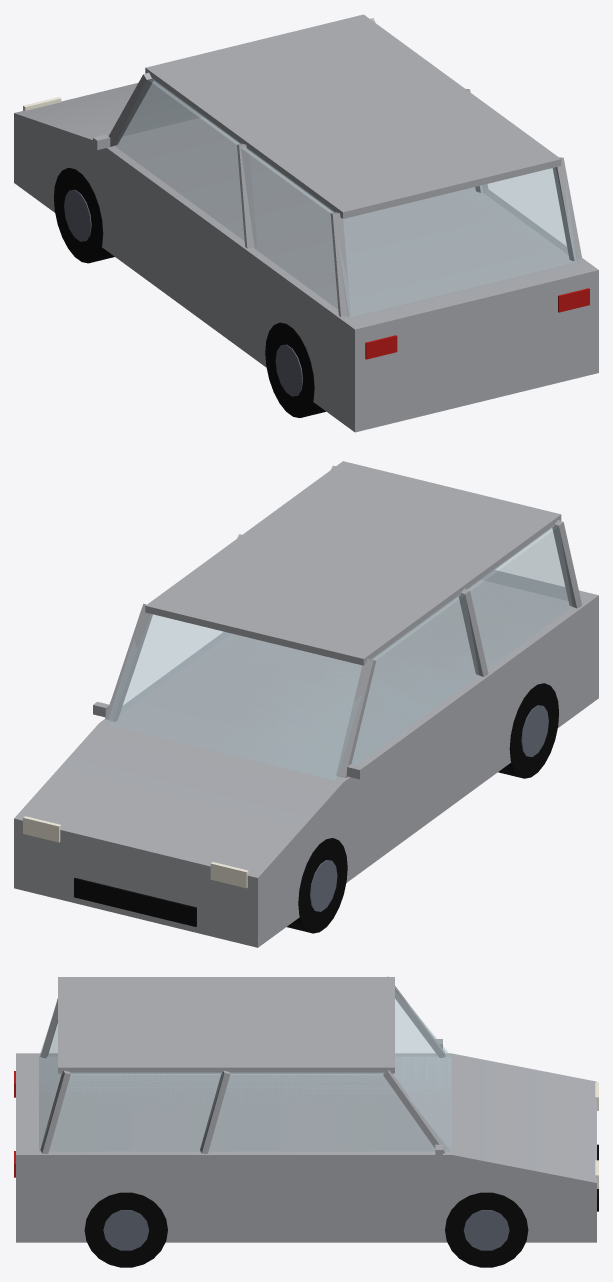
File: vehicle.car.suv_silver.glb
The picture shows the model from 3 angles, top to bottom: view 1: azimuth 30°, elevation 25°; view 2: azimuth 150°, elevation 25°; view 3: azimuth 270°, elevation 25°; orthographic projection. The views are drawn at different scales.
Visible parts, largest first — view 1: main__car_silver, main__glass, main__rubber, main__steel_painted, main__hazard_red; view 2: main__car_silver, main__glass, main__rubber, main__plastic_black, main__steel_painted, main__light_emitter; view 3: main__car_silver, main__glass, main__rubber, main__steel_painted.
Boxes of the visible parts, bbox=[...] form: main__car_silver: bbox=[14, 14, 598, 432]; main__glass: bbox=[115, 78, 577, 317]; main__rubber: bbox=[54, 167, 325, 417]; main__steel_painted: bbox=[64, 189, 302, 396]; main__hazard_red: bbox=[365, 288, 589, 359]; main__car_silver: bbox=[14, 461, 598, 947]; main__glass: bbox=[107, 525, 572, 780]; main__rubber: bbox=[287, 683, 558, 933]; main__plastic_black: bbox=[74, 878, 196, 926]; main__steel_painted: bbox=[310, 705, 548, 911]; main__light_emitter: bbox=[23, 816, 248, 888]; main__car_silver: bbox=[16, 976, 596, 1242]; main__glass: bbox=[39, 991, 451, 1151]; main__rubber: bbox=[84, 1192, 528, 1267]; main__steel_painted: bbox=[103, 1210, 509, 1250].
Size of the model in its own units: 2.08 by 1.7 by 4.63.
